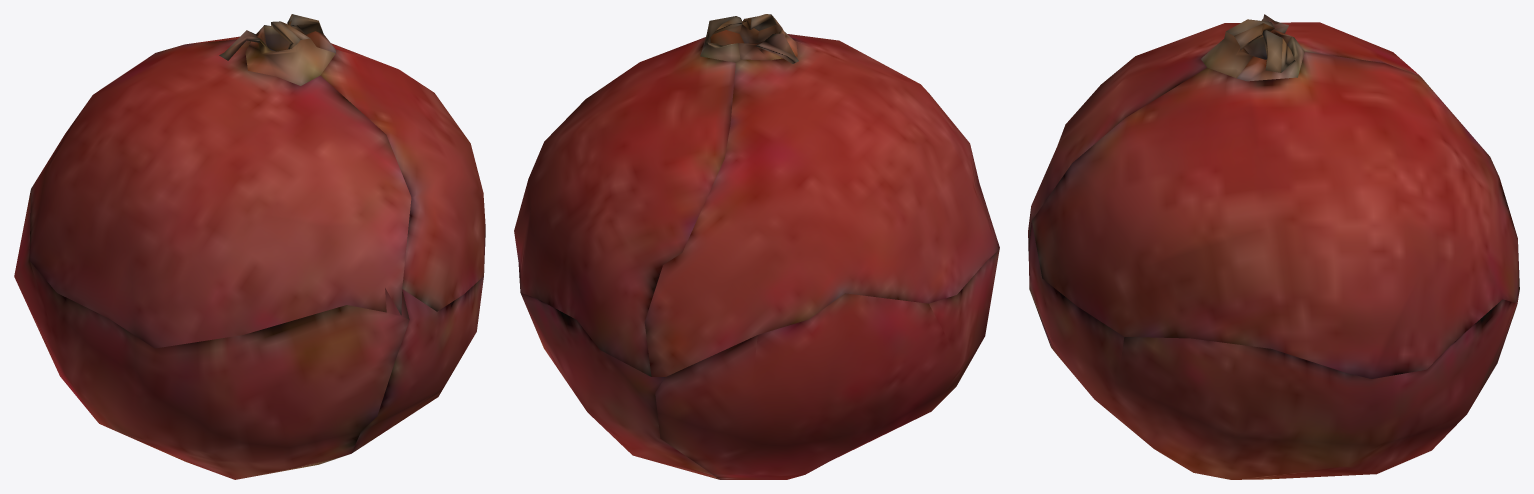
The model's file is food_pomegranate_01.low.glb.
3 renders of one model, left to right at view 1: azimuth 30°, elevation 25°; view 2: azimuth 150°, elevation 25°; view 3: azimuth 270°, elevation 25°, orthographic. The views are drawn at different scales.
Visible parts, largest first — view 1: body; view 2: body; view 3: body.
Boxes of the visible parts, bbox=[...] form: body: bbox=[14, 14, 485, 479]; body: bbox=[514, 14, 999, 479]; body: bbox=[1028, 14, 1519, 479].
Size of the model in its own units: 0.1126 by 0.1148 by 0.1143.
Materials: 1 (1 with a texture image).
